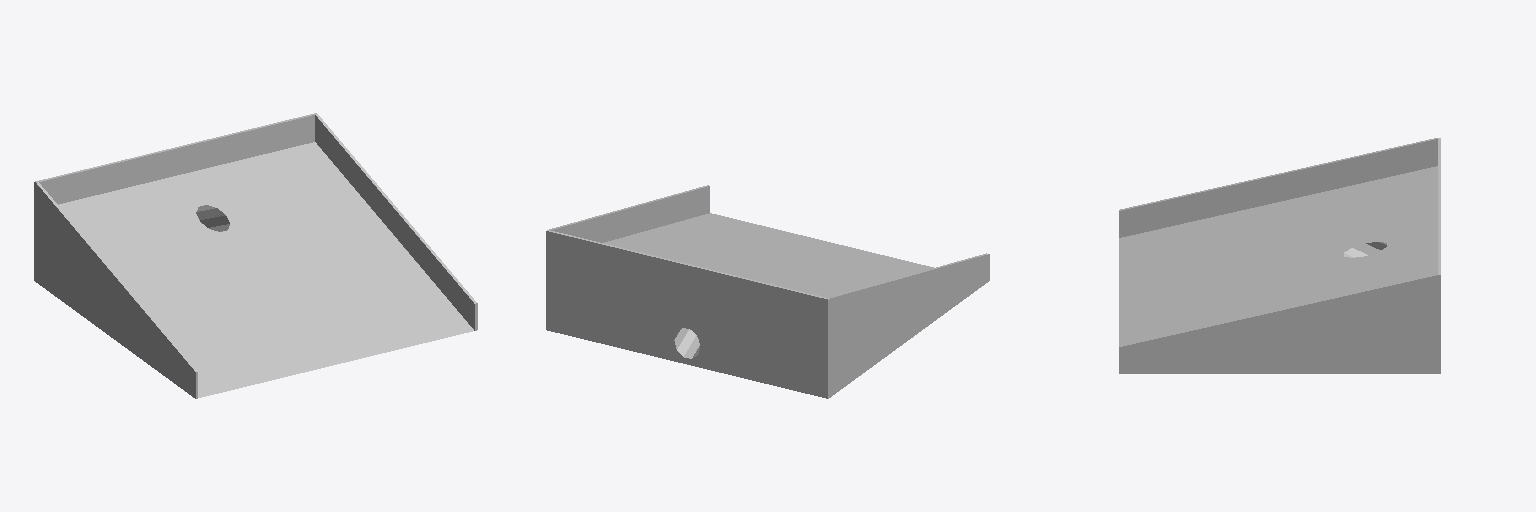
Rendered from rampWHole - Copy.obj.
3 views of the same model, side by side, from view 1: azimuth 30°, elevation 25°; view 2: azimuth 150°, elevation 25°; view 3: azimuth 270°, elevation 25° (orthographic).
Parts seen in each view (by area): view 1: Cube.003_Cube.004; view 2: Cube.003_Cube.004; view 3: Cube.003_Cube.004.
Boxes of the visible parts, x1=… form: Cube.003_Cube.004: x1=34, y1=113, x2=477, y2=398; Cube.003_Cube.004: x1=546, y1=185, x2=989, y2=398; Cube.003_Cube.004: x1=1119, y1=138, x2=1440, y2=373.
Size of the model in its own units: 8.16 by 2.75 by 8.08.